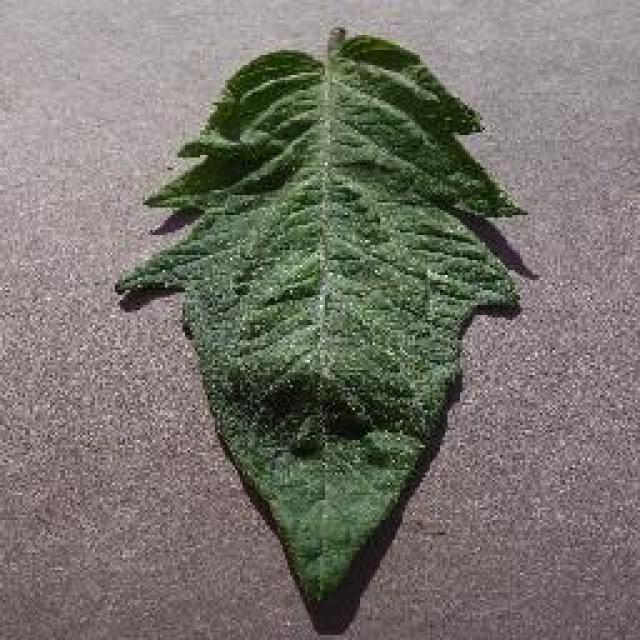Tomato___Spider_mites Two-spotted_spider_mite: (115, 28, 520, 602)
